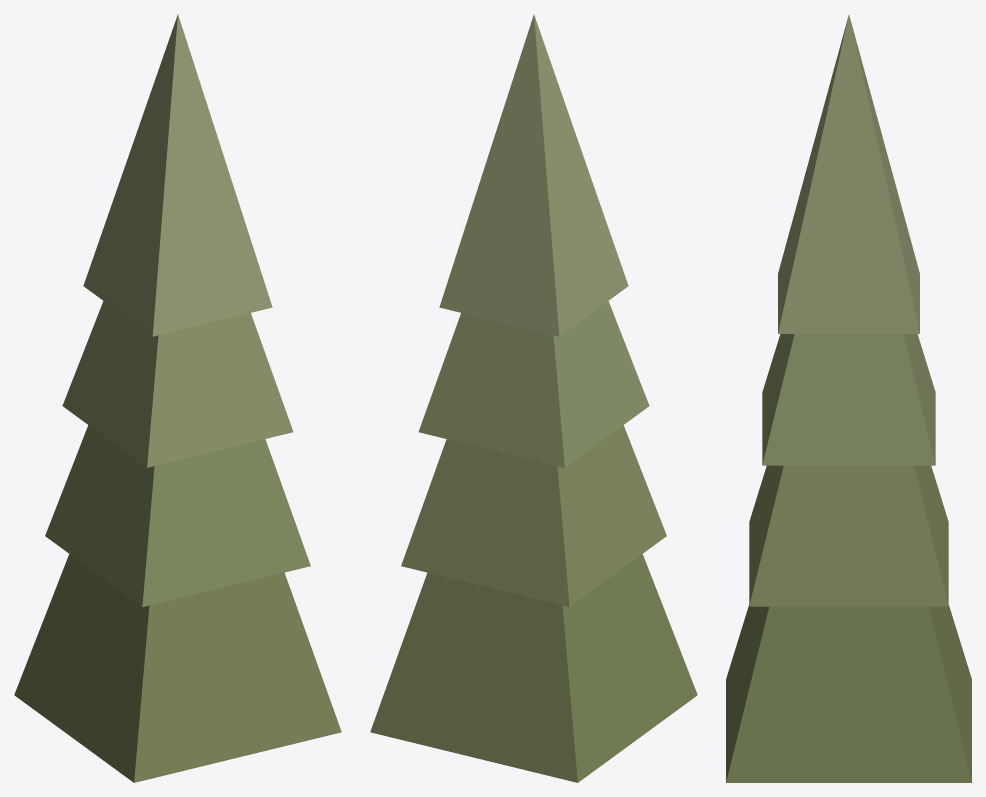
The model's file is tree2.glb.
3 views of the same model, side by side, from view 1: azimuth 30°, elevation 25°; view 2: azimuth 150°, elevation 25°; view 3: azimuth 270°, elevation 25° (orthographic). The views are drawn at different scales.
Visible parts, largest first — view 1: fir_tree_17; view 2: fir_tree_17; view 3: fir_tree_17.
Part boxes in pixels (left/top/right/bottom): fir_tree_17: left=14, top=14, right=341, bottom=782; fir_tree_17: left=370, top=14, right=697, bottom=782; fir_tree_17: left=726, top=15, right=971, bottom=782.
Size of the model in its own units: 1.17 by 3.78 by 1.17.
Materials: 1 (1 with a texture image).
